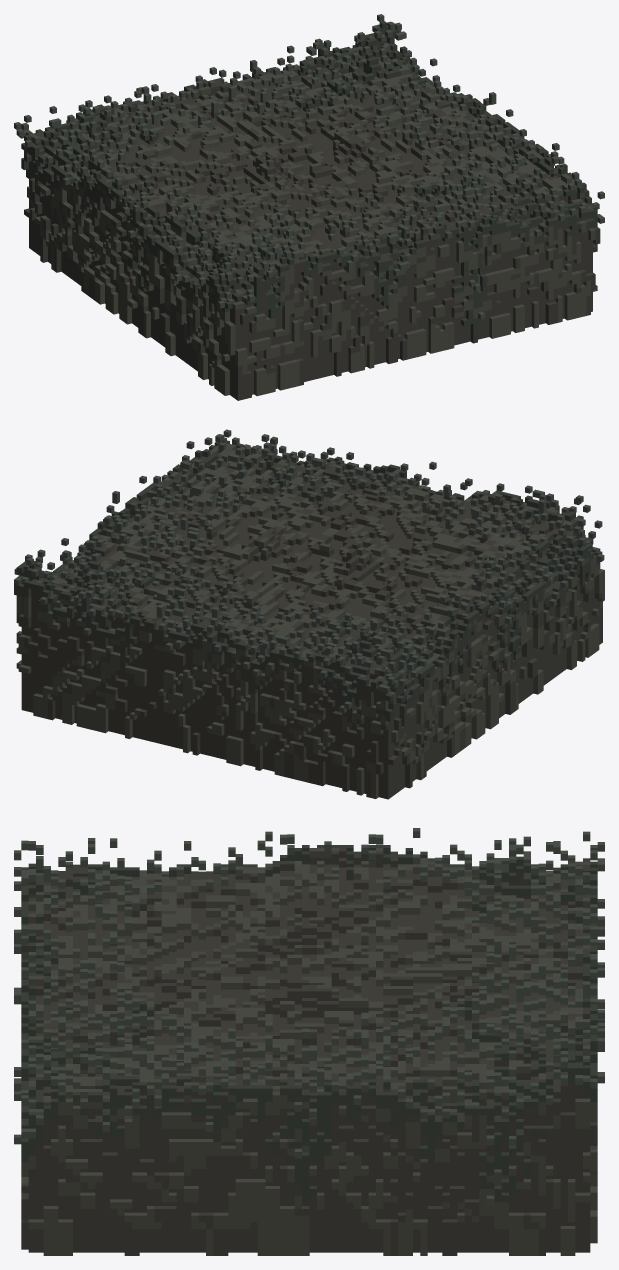
Rendered from SM-0-Ground.obj.
3 renders of one model, top to bottom at view 1: azimuth 30°, elevation 25°; view 2: azimuth 150°, elevation 25°; view 3: azimuth 270°, elevation 25°, orthographic. The views are drawn at different scales.
Visible parts, largest first — view 1: Ground; view 2: Ground; view 3: Ground.
Part boxes in pixels (x1=…): Ground: x1=14, y1=14, x2=604, y2=400; Ground: x1=14, y1=429, x2=604, y2=799; Ground: x1=14, y1=828, x2=604, y2=1255.
Bounding box in the file's own units: 8 × 3 × 8.
Materials: 1 (1 with a texture image).
